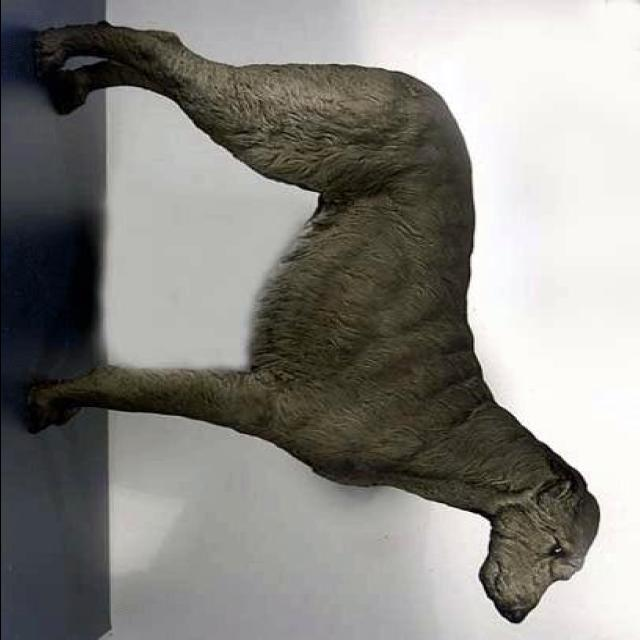irish_wolfhound: (22, 16, 608, 622)
